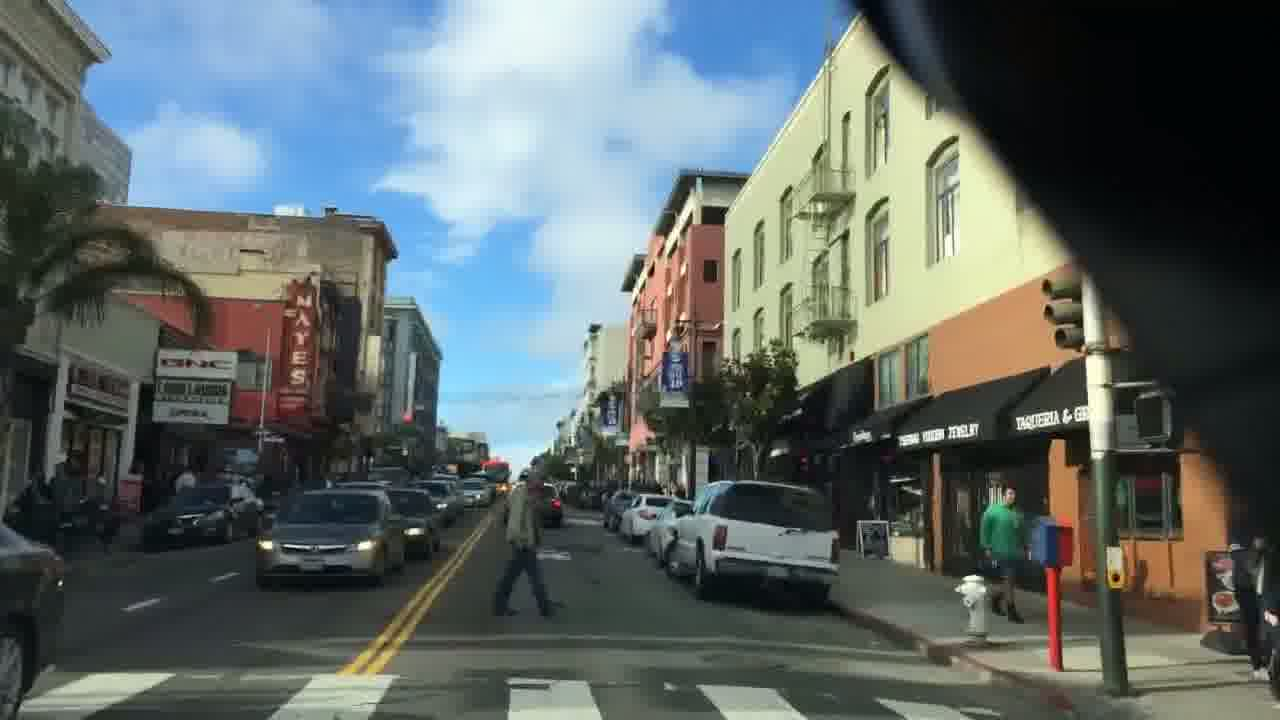car: (663, 479, 842, 605), (252, 486, 406, 591), (0, 490, 66, 720), (138, 480, 264, 553), (383, 486, 441, 561), (644, 498, 695, 565), (615, 492, 673, 544), (503, 481, 563, 529), (456, 477, 492, 507)
pedestrian: (489, 471, 568, 620), (978, 485, 1033, 625), (1230, 510, 1272, 685)
